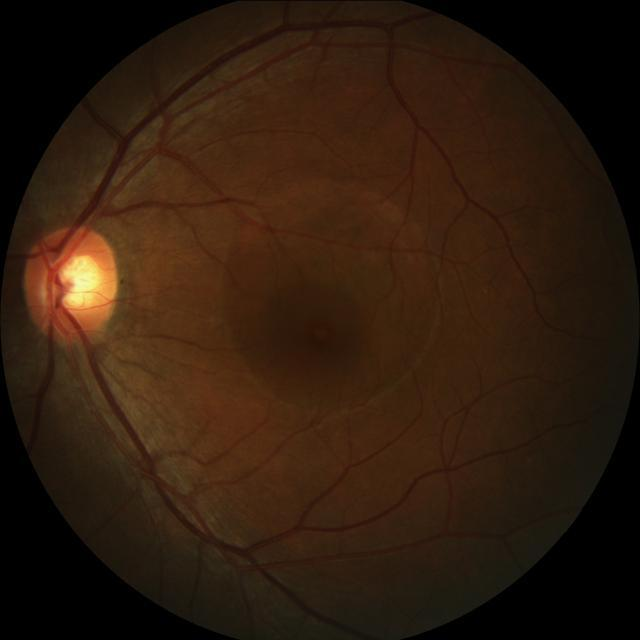OC: (57, 253, 101, 308)
OD: (22, 226, 116, 340)
